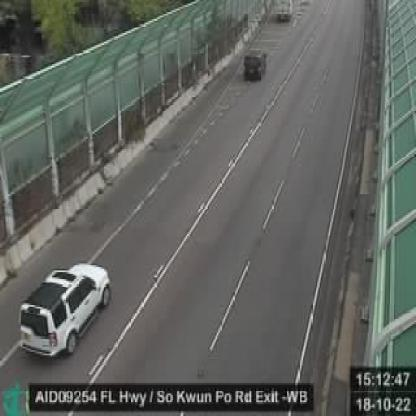Car: (18, 266, 112, 358), (244, 48, 267, 82)
Truck: (275, 0, 294, 26)
